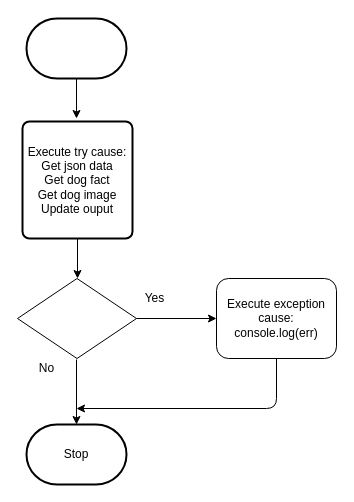
Some shapes in this 354 by 502 pixel diagram are drawn without their labels. Here are the shapes that lost their labels. From the top down, the box of each, then its label:
(25, 17, 127, 79): Start
(16, 278, 136, 358): Exception occurs
